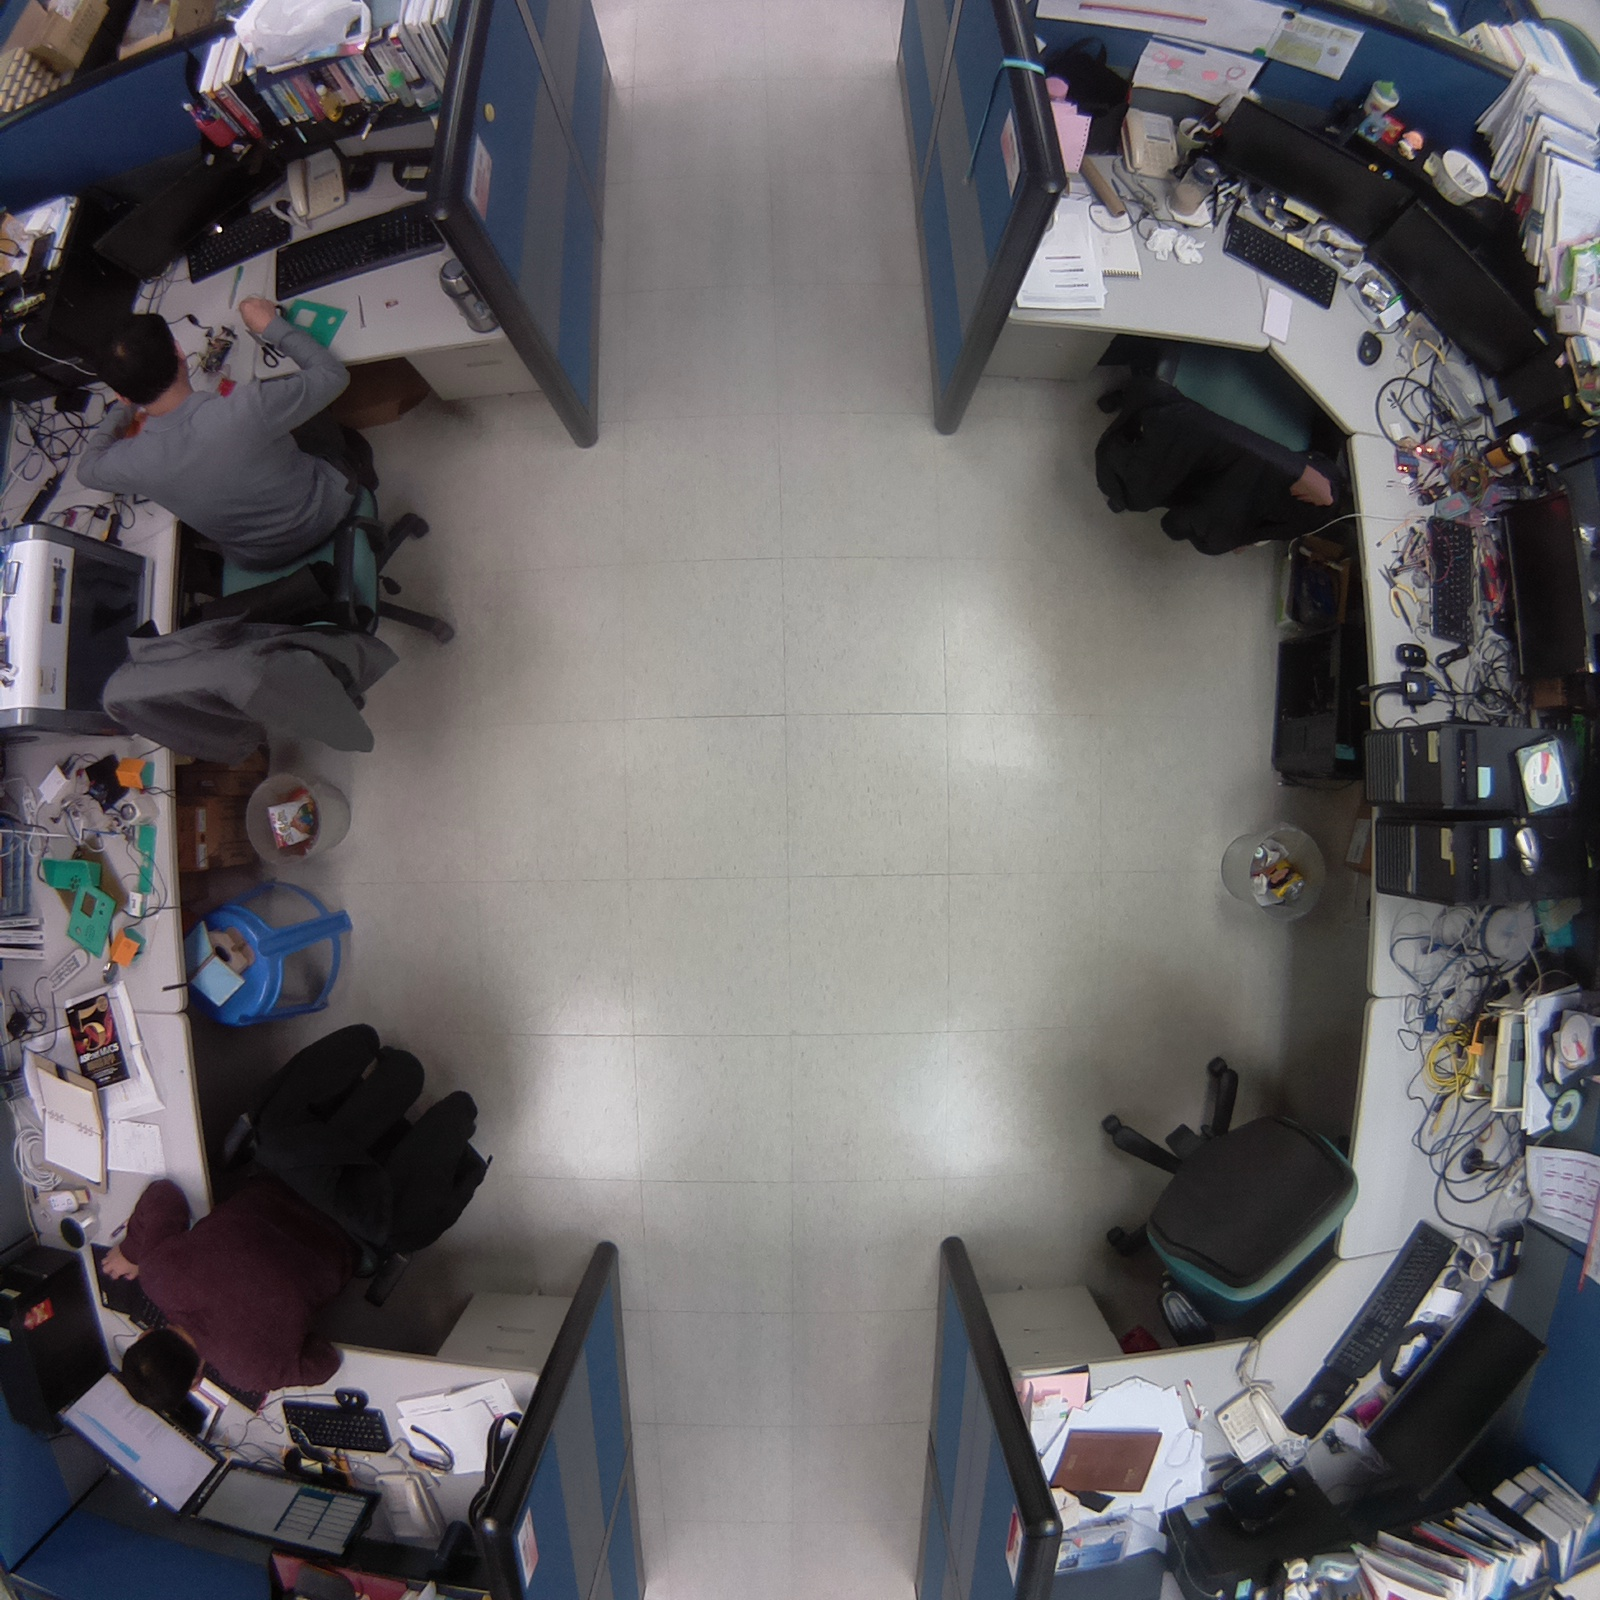chair: (1078, 1037, 1374, 1368), (1073, 311, 1363, 582)
sitting: (51, 270, 467, 804), (79, 1011, 508, 1429)
